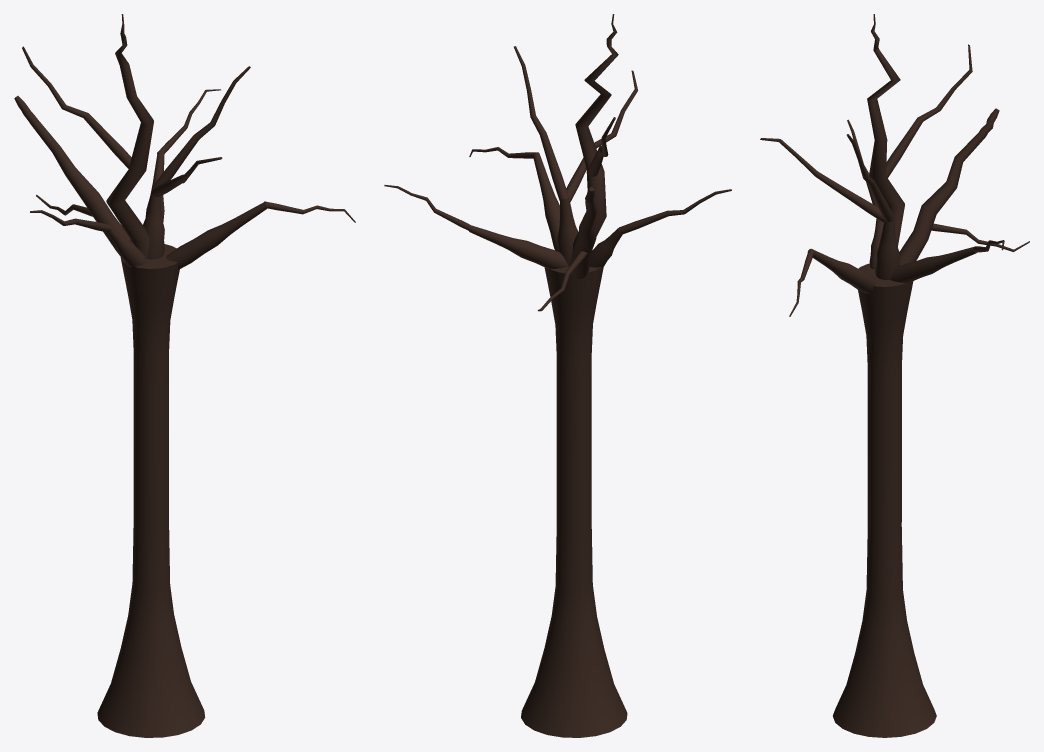
File: Tree.gltf
3 views of the same model, side by side, from view 1: azimuth 30°, elevation 25°; view 2: azimuth 150°, elevation 25°; view 3: azimuth 270°, elevation 25° (orthographic). The views are drawn at different scales.
Parts seen in each view (by area): view 1: pCylinder1, pCylinder10, pCylinder6, pCylinder3, pCylinder11, pCylinder5, pCylinder4, pCylinder13; view 2: pCylinder1, pCylinder10, pCylinder2, pCylinder6, pCylinder5, pCylinder3, pCylinder4, pCylinder7, pCylinder14, pCylinder13; view 3: pCylinder1, pCylinder10, pCylinder6, pCylinder2, pCylinder3, pCylinder11, pCylinder4, pCylinder7, pCylinder5, pCylinder12.
Part boxes in pixels (x1,y1,x2,y2): pCylinder1: [97, 244, 205, 737]; pCylinder10: [106, 14, 153, 259]; pCylinder6: [14, 96, 130, 252]; pCylinder3: [166, 202, 268, 269]; pCylinder11: [22, 46, 131, 168]; pCylinder5: [152, 66, 250, 189]; pCylinder4: [143, 187, 164, 259]; pCylinder13: [107, 225, 147, 267]; pCylinder1: [521, 266, 627, 737]; pCylinder10: [572, 14, 618, 250]; pCylinder2: [469, 225, 568, 268]; pCylinder6: [569, 187, 596, 278]; pCylinder5: [514, 46, 568, 200]; pCylinder3: [533, 152, 559, 251]; pCylinder4: [557, 197, 578, 266]; pCylinder7: [566, 70, 637, 203]; pCylinder14: [618, 189, 731, 234]; pCylinder13: [589, 227, 622, 267]; pCylinder1: [833, 263, 936, 737]; pCylinder10: [867, 14, 904, 246]; pCylinder6: [899, 108, 999, 265]; pCylinder2: [890, 246, 977, 283]; pCylinder3: [807, 250, 877, 293]; pCylinder11: [885, 44, 972, 178]; pCylinder4: [875, 219, 899, 279]; pCylinder7: [760, 138, 890, 223]; pCylinder5: [846, 134, 893, 221]; pCylinder12: [931, 223, 1029, 251].
Bounding box in the file's own units: 0.3094 × 0.7141 × 0.2546.
